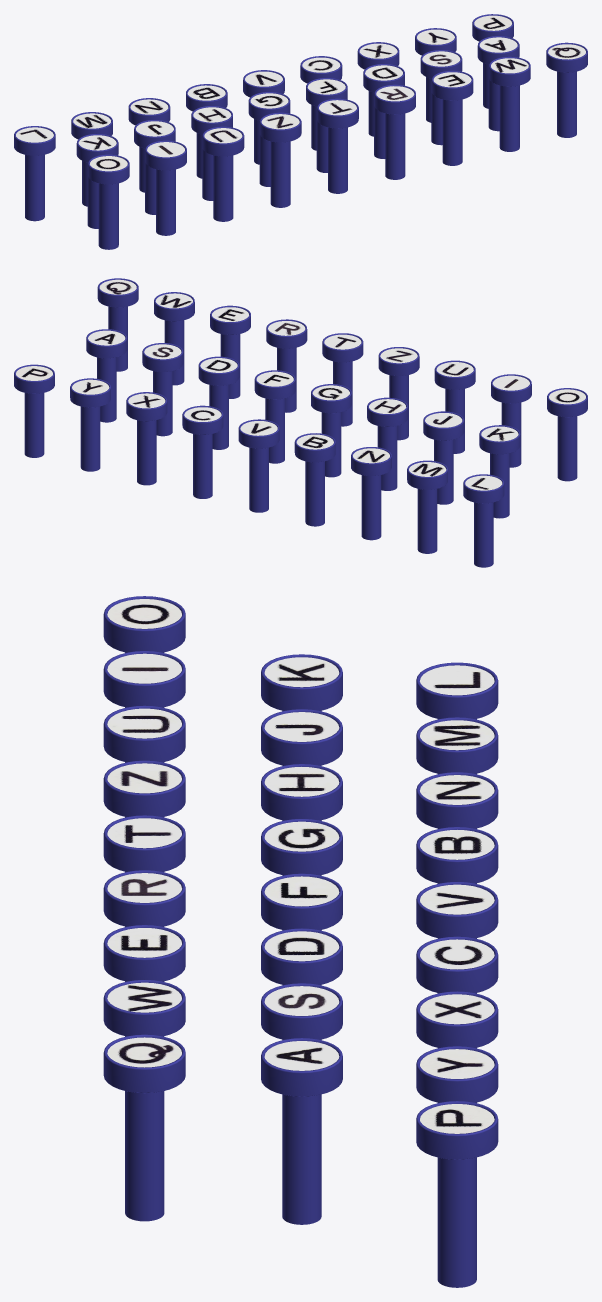
The model's file is enigma_keys.fbx.
3 renders of one model, top to bottom at view 1: azimuth 30°, elevation 25°; view 2: azimuth 150°, elevation 25°; view 3: azimuth 270°, elevation 25°, orthographic. The views are drawn at different scales.
Visible parts, largest first — view 1: key_E, key_Z, key_U, key_O, key_W, key_R, key_I, key_T, key_L, key_Q, key_A, key_S (+14 smaller); view 2: key_P, key_Y, key_N, key_M, key_O, key_L, key_V, key_X, key_B, key_C, key_G, key_H (+14 smaller); view 3: key_Q, key_P, key_A, key_M, key_T, key_Y, key_L, key_Z, key_X, key_C, key_N, key_R (+14 smaller).
Part boxes in pixels (bbox=[...]): key_E: bbox=[431, 70, 473, 165]; key_Z: bbox=[259, 112, 301, 207]; key_U: bbox=[202, 126, 244, 221]; key_O: bbox=[88, 154, 129, 249]; key_W: bbox=[489, 56, 530, 151]; key_R: bbox=[374, 84, 415, 179]; key_I: bbox=[145, 140, 186, 235]; key_T: bbox=[317, 98, 358, 193]; key_L: bbox=[14, 126, 55, 221]; key_Q: bbox=[546, 42, 587, 137]; key_A: bbox=[477, 36, 519, 131]; key_S: bbox=[420, 50, 462, 145]; key_P: bbox=[14, 364, 54, 457]; key_Y: bbox=[70, 378, 110, 471]; key_N: bbox=[351, 447, 391, 540]; key_M: bbox=[407, 460, 447, 553]; key_O: bbox=[547, 388, 587, 481]; key_L: bbox=[463, 474, 504, 567]; key_V: bbox=[238, 419, 279, 512]; key_X: bbox=[126, 392, 167, 485]; key_B: bbox=[294, 433, 335, 526]; key_C: bbox=[182, 405, 223, 498]; key_G: bbox=[311, 384, 351, 477]; key_H: bbox=[367, 397, 407, 490]; key_Q: bbox=[103, 1034, 185, 1221]; key_P: bbox=[416, 1101, 498, 1287]; key_A: bbox=[261, 1038, 342, 1224]; key_M: bbox=[416, 717, 498, 774]; key_T: bbox=[103, 815, 185, 872]; key_Y: bbox=[416, 1046, 498, 1103]; key_L: bbox=[416, 662, 498, 719]; key_Z: bbox=[103, 760, 185, 817]; key_X: bbox=[416, 991, 498, 1048]; key_C: bbox=[416, 936, 498, 993]; key_N: bbox=[416, 772, 498, 828]; key_R: bbox=[103, 870, 185, 926].
Bounding box in the file's own units: 119 × 25.79 × 41.42.
